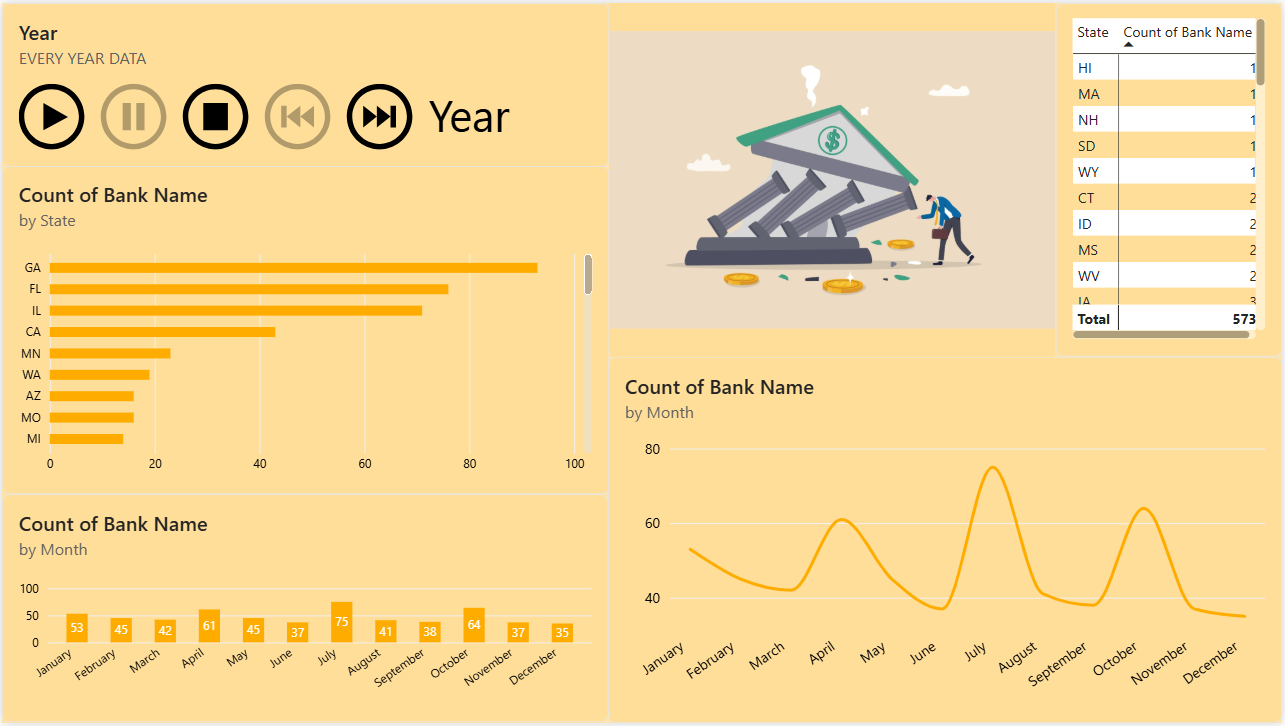

This screenshot's page, from the dashboard's own definition file:
{"tool":"powerbi","page":{"name":"Overview","canvas":[1280,720],"ordinal":0},"visuals":[{"type":"barChart","fields":{"Category":["failed banks.State "],"Y":["CountNonNull(failed banks.Bank Name )"]},"box":[0,163,607.4,328.9],"z":0},{"type":"columnChart","fields":{"Category":["calendar.Month"],"Y":["CountNonNull(failed banks.Bank Name )"]},"box":[0,491.7,606.7,228.3],"z":1000},{"type":"pivotTable","fields":{"Values":["CountNonNull(failed banks.Bank Name )"],"Rows":["failed banks.State ","failed banks.City "]},"box":[1053.2,0,226.5,353.5],"z":2000},{"type":"PBI_CV_16948668_E17D_454B_8664_2F2C470EA8C1","fields":{"category":["calendar.Year"]},"box":[0,0,607.5,163.8],"z":3000},{"type":"lineChart","fields":{"Y":["CountNonNull(failed banks.Bank Name )"],"Category":["calendar.Month"]},"box":[606,353.5,673.8,366.5],"z":4000},{"type":"image","box":[607.4,0,445.8,353.5],"z":5000}]}

Visuals, with their boxes in screenshot pixels (x1, y1, x2, y2), scaled from the page's 1280x720 canvas onto the 1285x726 screenshot:
barChart - failed banks.State  x CountNonNull(failed banks.Bank Name ): <box>0,164,610,496</box>
columnChart - calendar.Month x CountNonNull(failed banks.Bank Name ): <box>0,496,609,725</box>
pivotTable - CountNonNull(failed banks.Bank Name ) x failed banks.State : <box>1057,0,1284,356</box>
PBI_CV_16948668_E17D_454B_8664_2F2C470EA8C1 - calendar.Year: <box>0,0,610,165</box>
lineChart - CountNonNull(failed banks.Bank Name ) x calendar.Month: <box>608,356,1284,725</box>
image: <box>610,0,1057,356</box>
